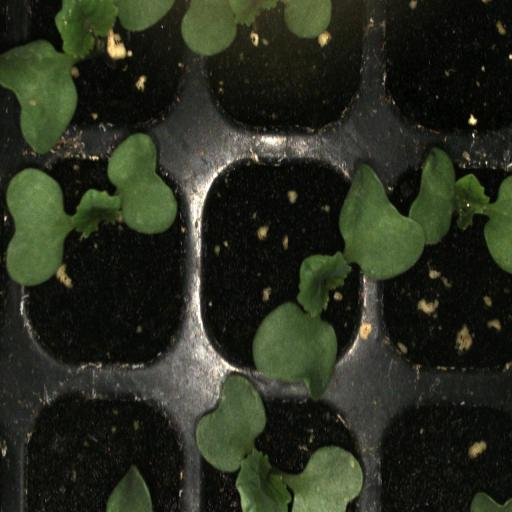noseedling: (381, 0, 512, 136)
seedling: (14, 146, 189, 386), (193, 148, 373, 379), (378, 146, 512, 384), (16, 0, 192, 146), (195, 381, 372, 512)
